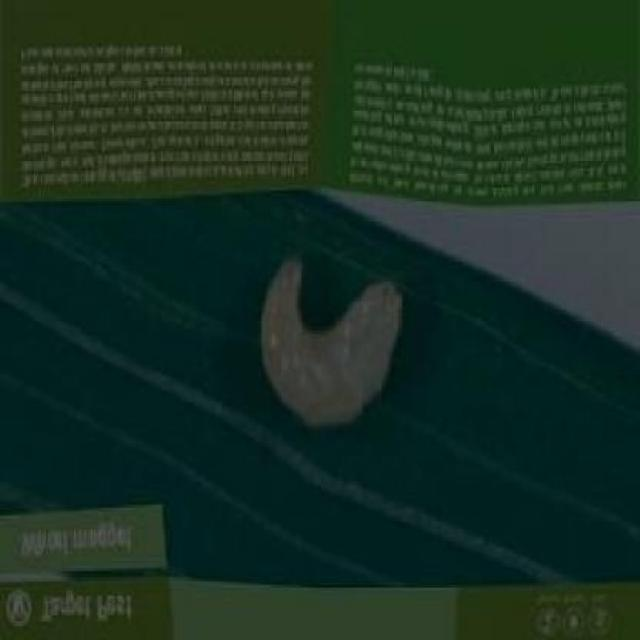whorl-maggot: (257, 244, 414, 442)
